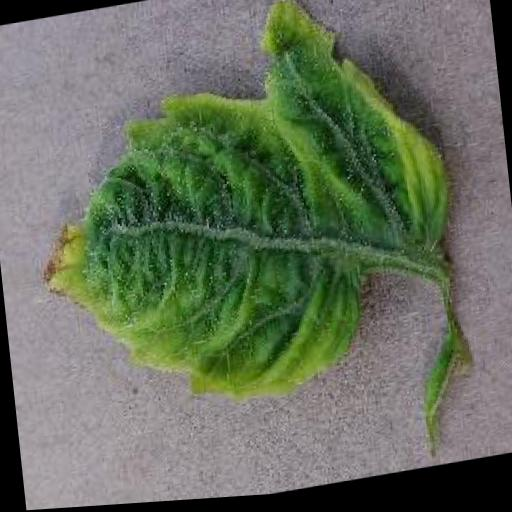Yellow Leaf Curl Virus: (9, 0, 469, 434)
